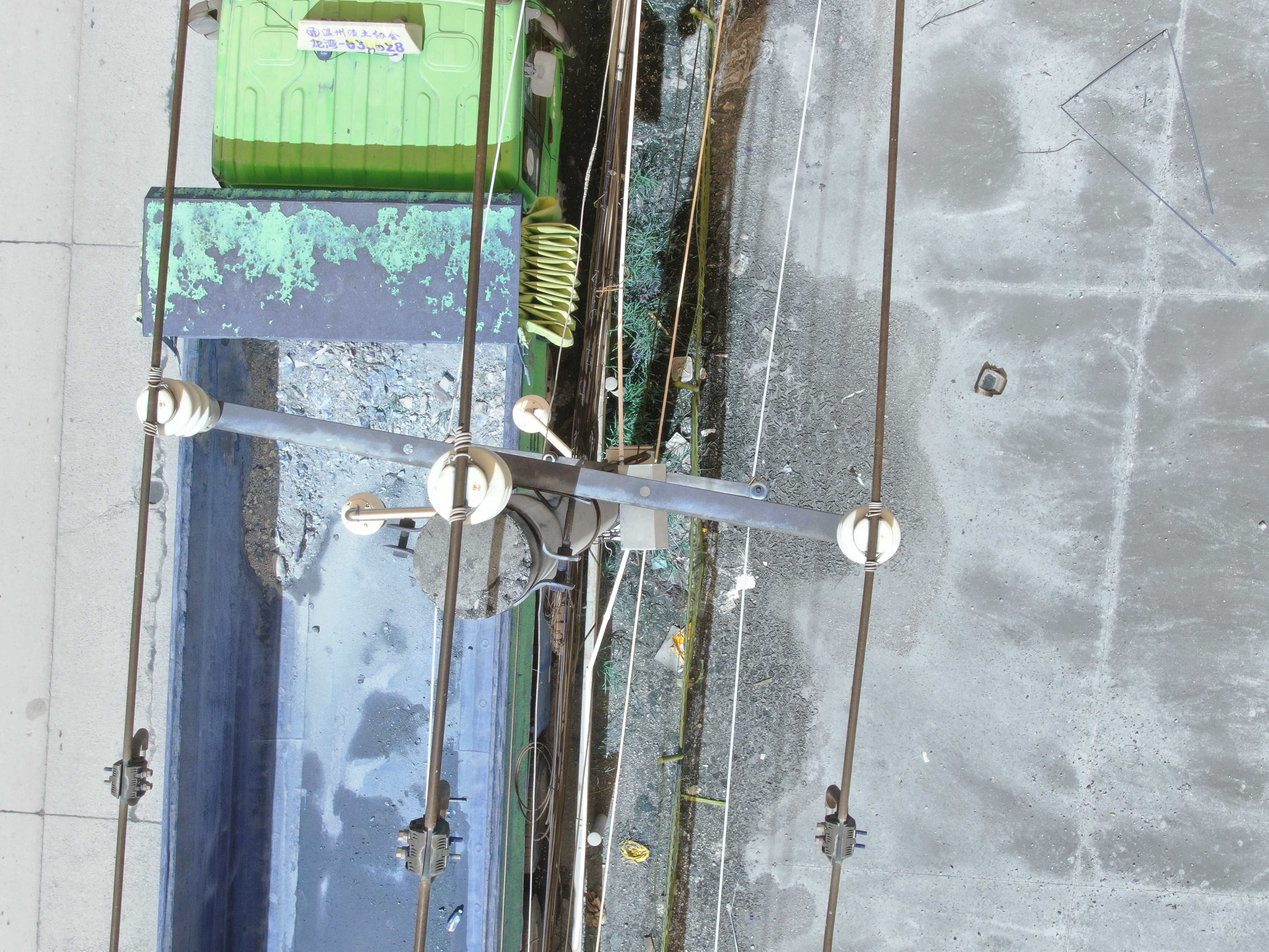severe_soiling_no_discharge_whole: (747, 479, 769, 501)
